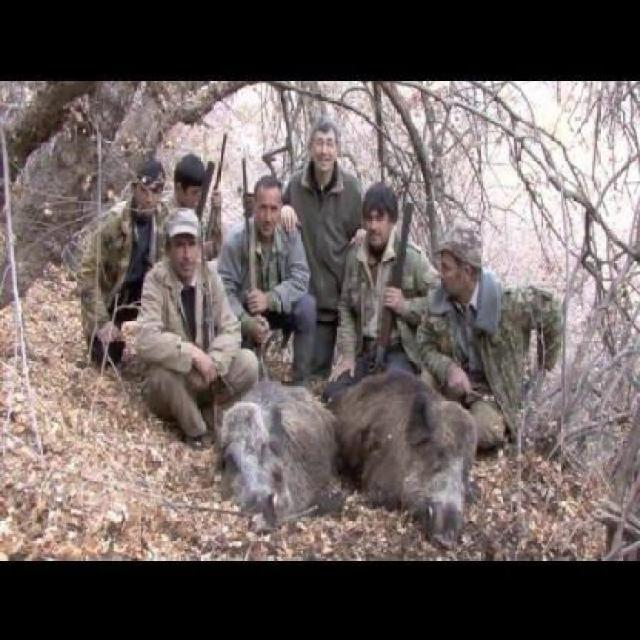wildboar: (321, 367, 484, 555), (207, 374, 342, 532)
